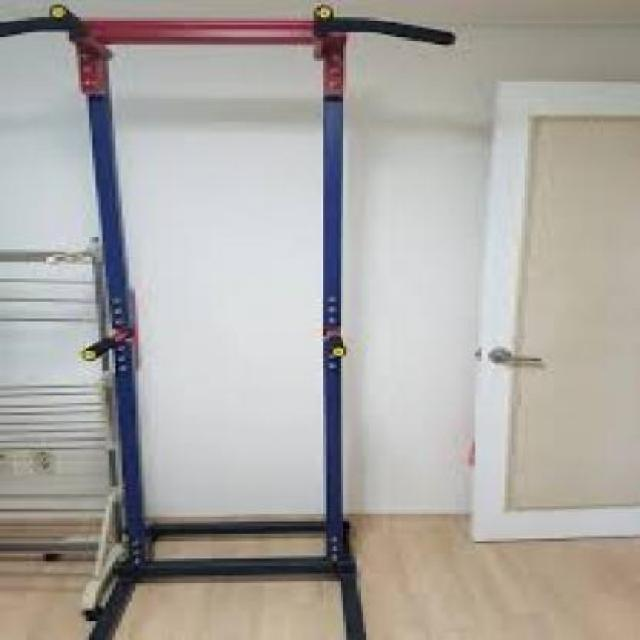chinning dipping: (0, 4, 460, 640)
